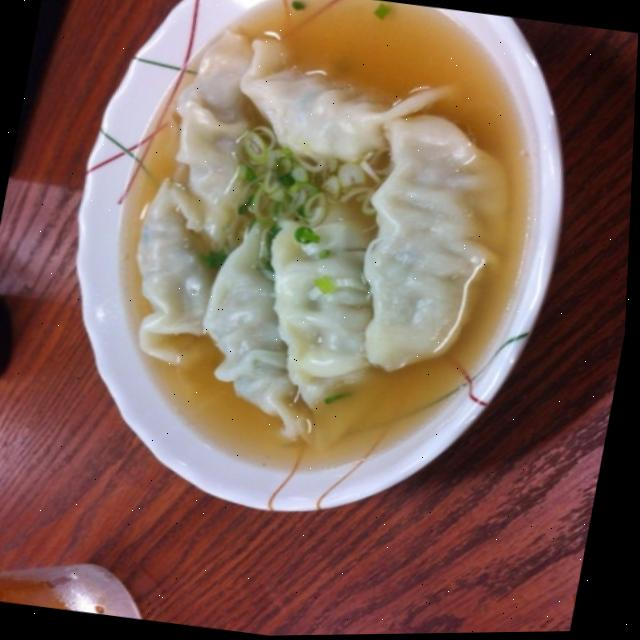带馅早点: (74, 0, 563, 500)
